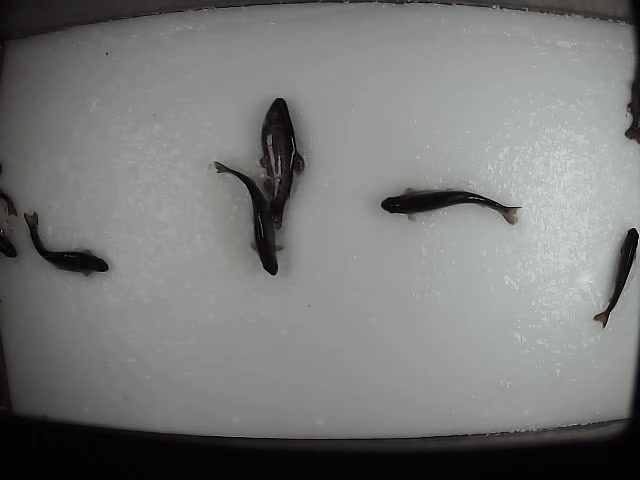fish: (211, 159, 282, 276), (257, 96, 307, 232), (20, 207, 112, 280), (379, 184, 523, 227), (591, 226, 640, 329)
